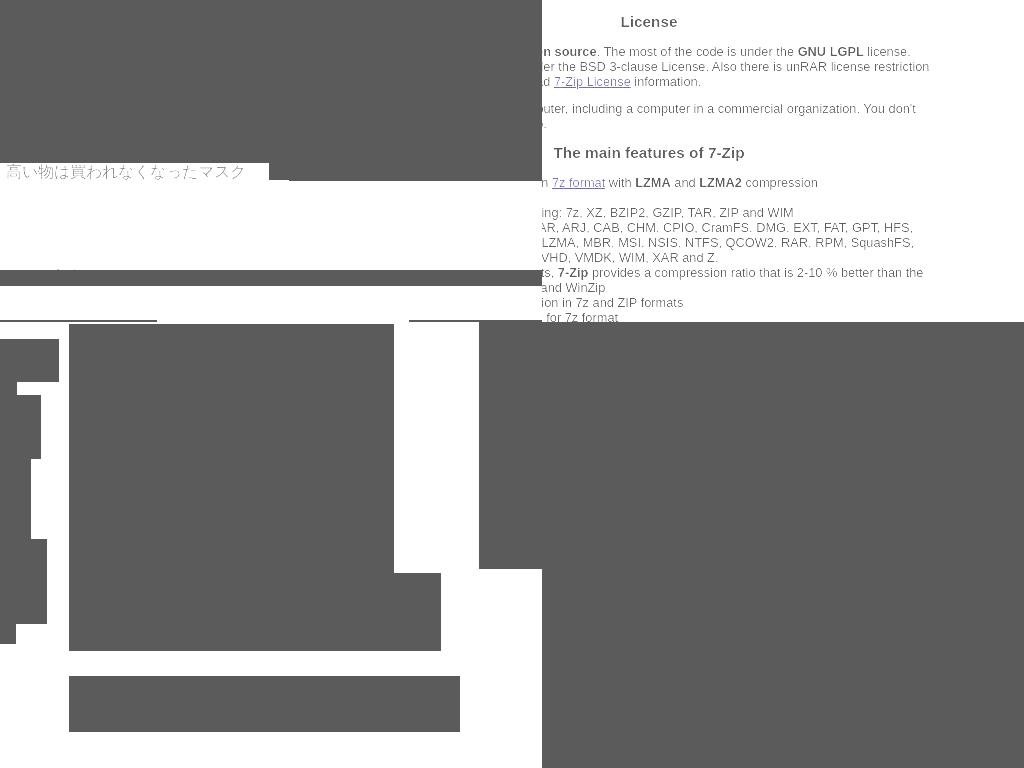button: (0, 0, 289, 180), (289, 0, 542, 181), (0, 339, 15, 396), (0, 539, 15, 596), (0, 395, 15, 444), (0, 443, 15, 492), (0, 491, 15, 540)
heading: (69, 324, 394, 644), (69, 573, 441, 651), (542, 402, 1024, 454), (69, 509, 367, 587), (542, 474, 1024, 513), (0, 270, 542, 286), (542, 12, 934, 31), (542, 144, 934, 163)
image: (542, 322, 1024, 768), (0, 0, 289, 144), (289, 0, 542, 145), (0, 347, 7, 380), (0, 403, 7, 436), (0, 451, 7, 484), (0, 499, 7, 532), (0, 547, 7, 580)
link: (594, 735, 1024, 753), (0, 163, 269, 180), (309, 164, 542, 181), (553, 73, 631, 89), (551, 174, 605, 190)
text: (69, 676, 460, 732), (542, 219, 934, 265), (542, 43, 929, 89), (542, 101, 934, 132), (542, 528, 1024, 553), (542, 264, 924, 295), (594, 663, 1024, 681), (594, 681, 1024, 699), (594, 717, 1024, 735), (542, 204, 934, 220), (542, 294, 934, 310), (542, 309, 934, 322), (0, 539, 47, 624), (596, 43, 798, 59), (0, 395, 41, 459), (0, 339, 59, 382), (0, 443, 31, 507), (0, 491, 31, 555), (741, 174, 818, 190), (630, 73, 701, 89), (0, 379, 17, 444), (797, 43, 864, 59), (0, 579, 16, 644), (542, 43, 598, 59), (699, 174, 743, 190), (635, 174, 672, 190), (605, 174, 636, 190), (557, 264, 588, 280), (670, 174, 699, 190)
